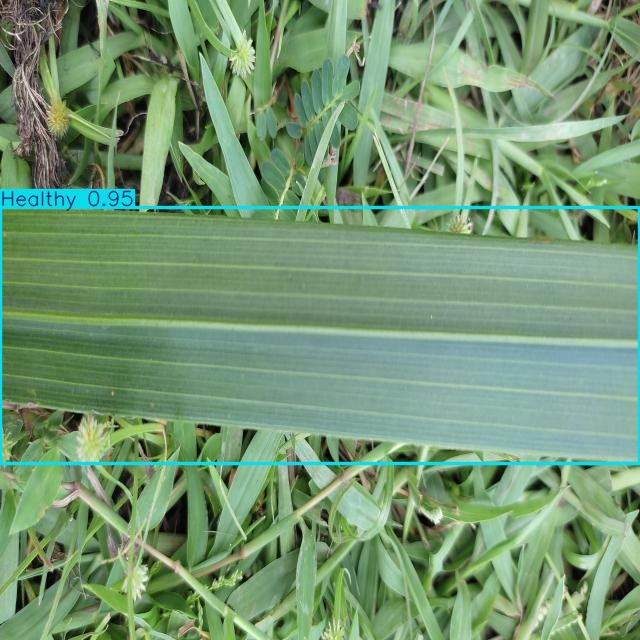Healthy: (0, 207, 640, 463)
